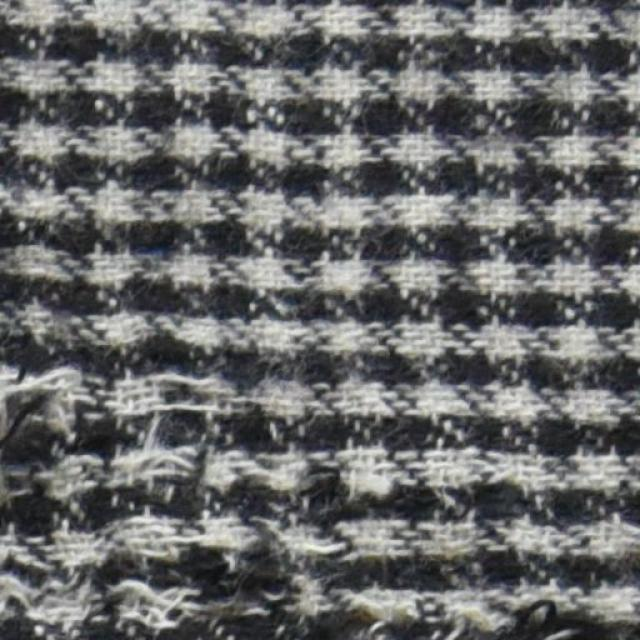Snag: (0, 333, 639, 639)
